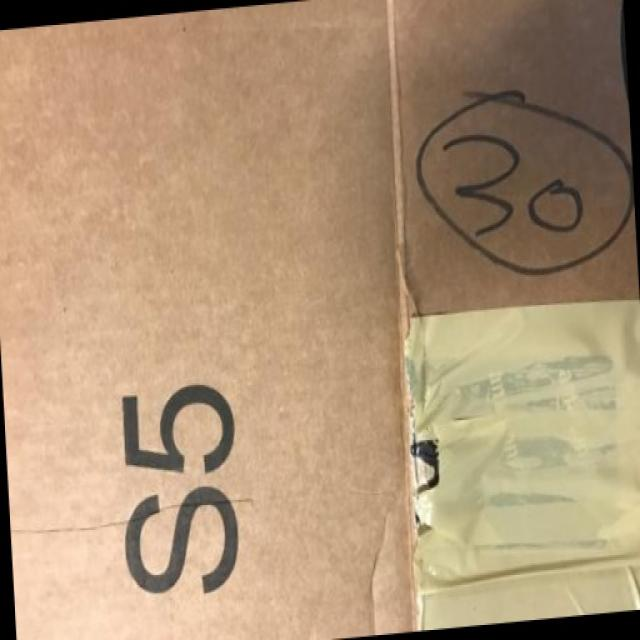carton: (2, 27, 635, 620)
